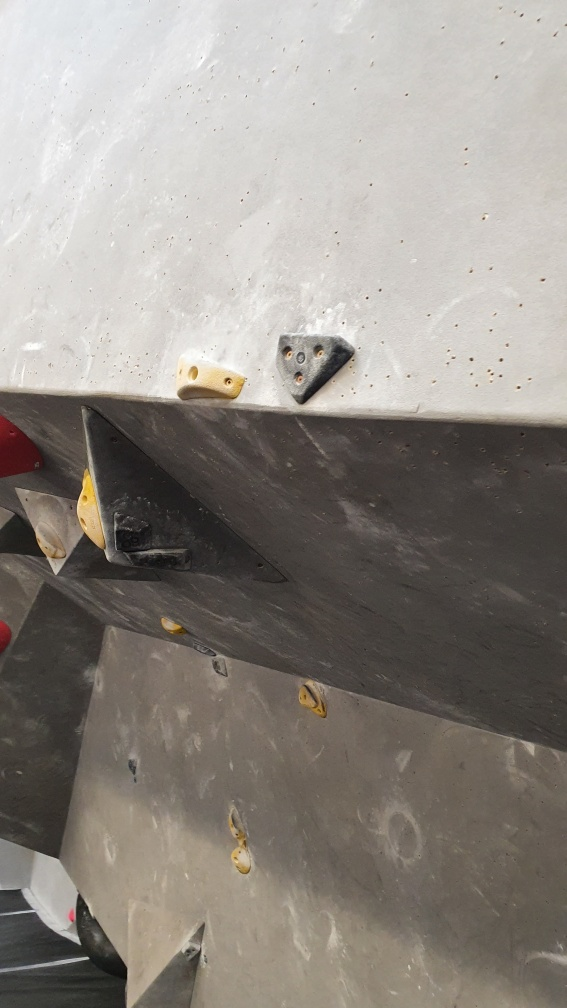Crimp: (272, 328, 359, 407)
Pinch: (172, 355, 246, 411)
